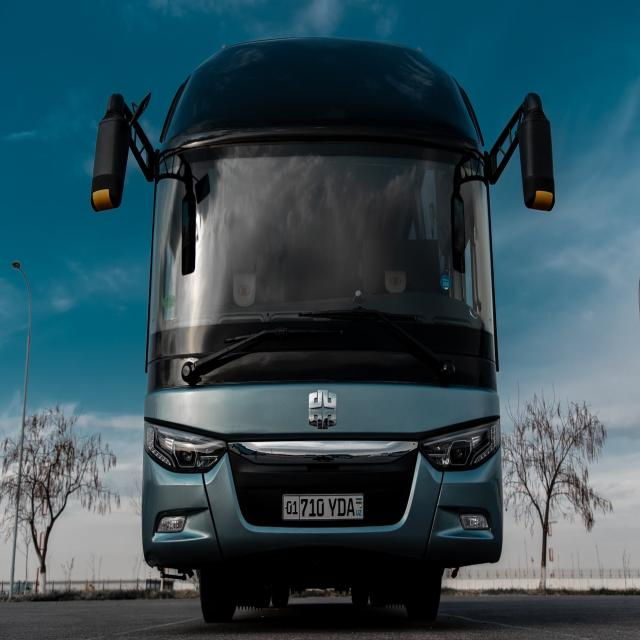bus: (91, 38, 555, 622)
